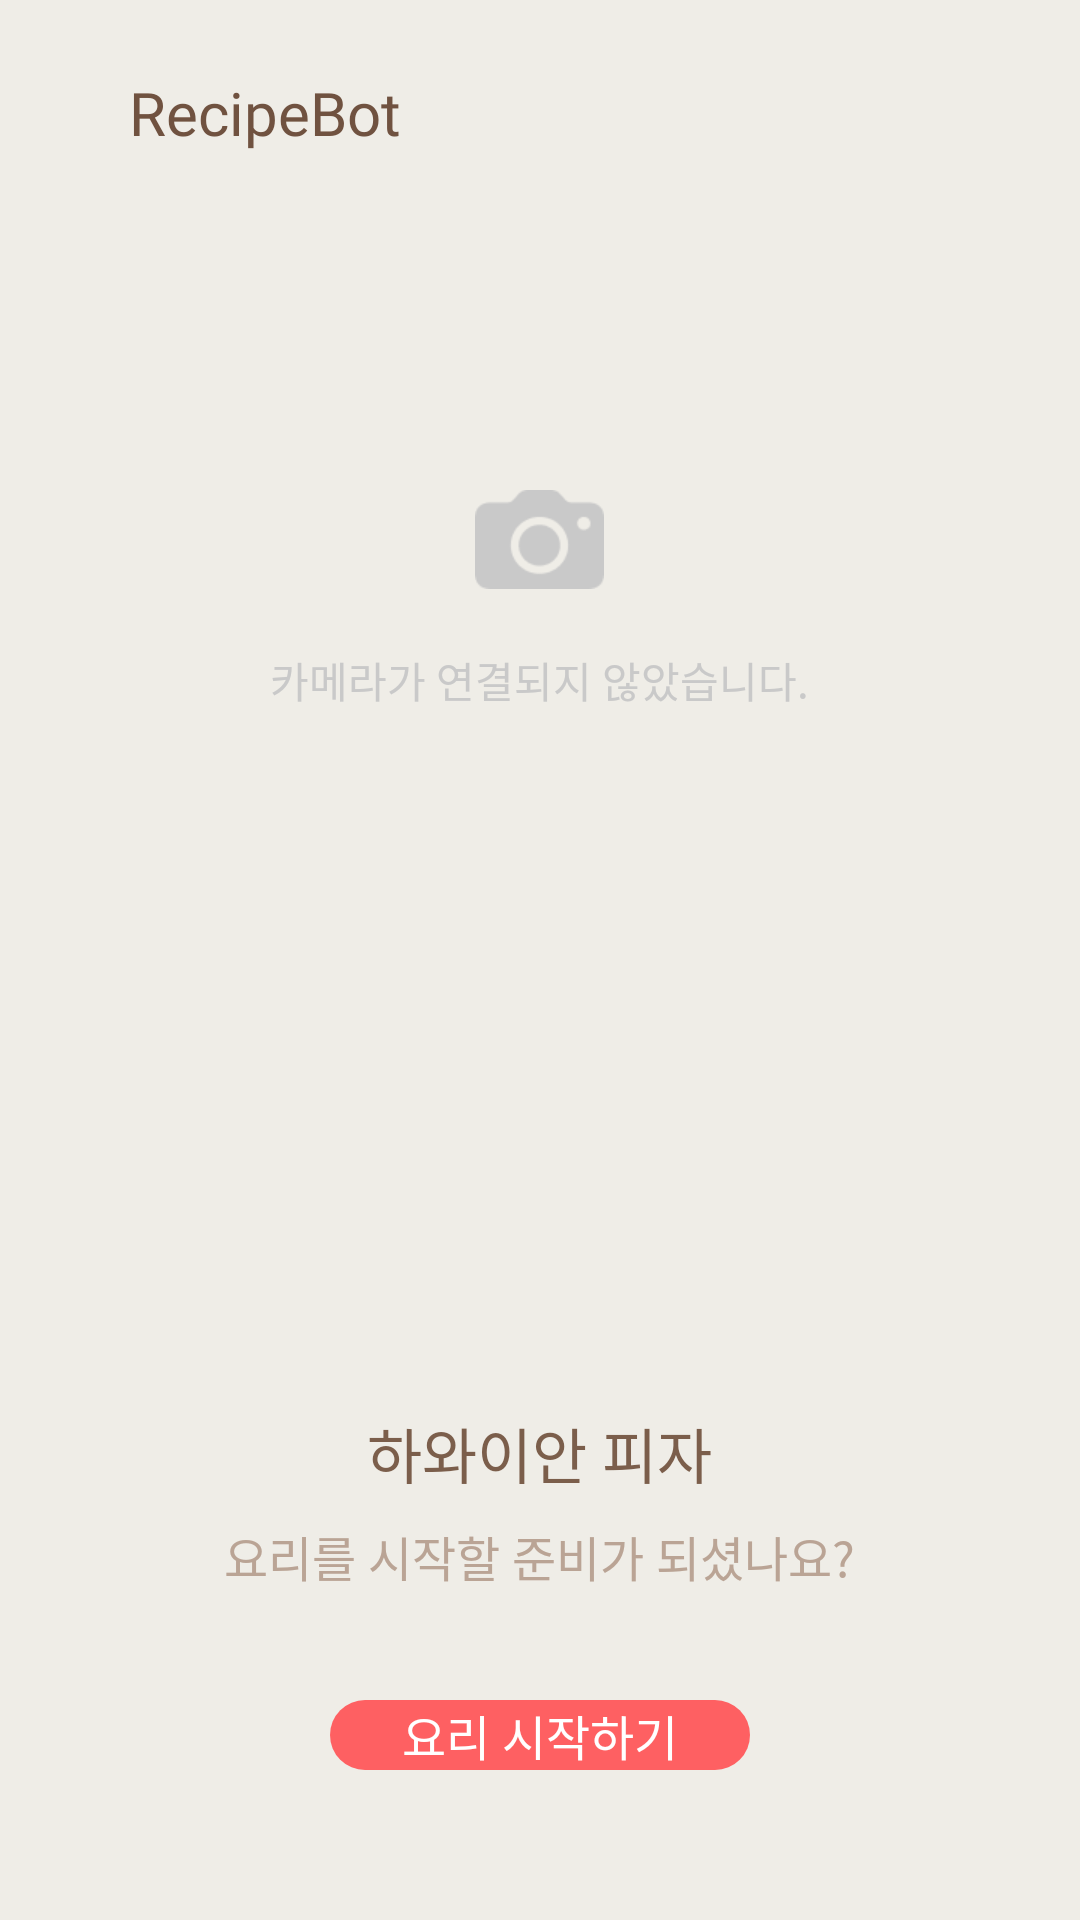

Screen size 1080px x 1920px. Icon name, then its box in pixels as {"left": x1, "top": y1, "right": x2, "bottom": y2}:
camera: {"left": 475, "top": 490, "right": 604, "bottom": 589}
